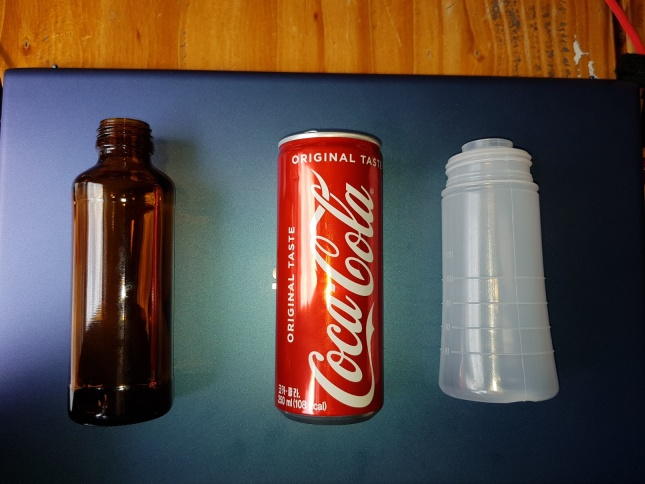Can: (268, 127, 388, 428)
Glass: (65, 113, 178, 429)
Plastic: (434, 136, 562, 409)
